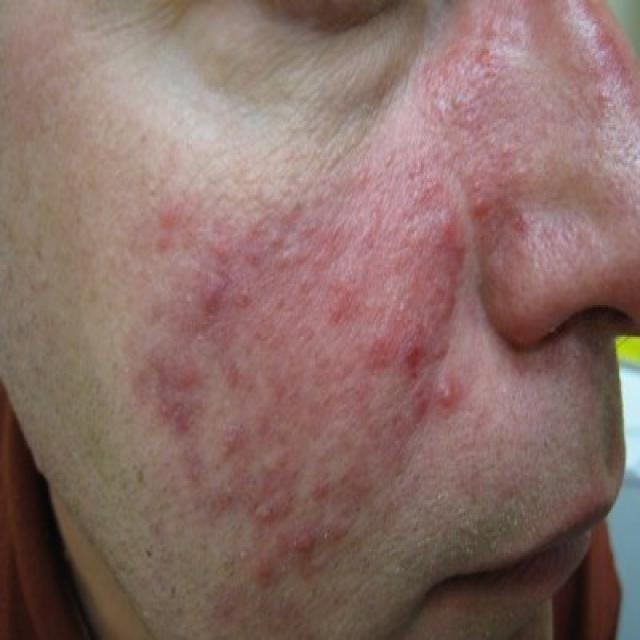acne: (12, 10, 484, 619)
